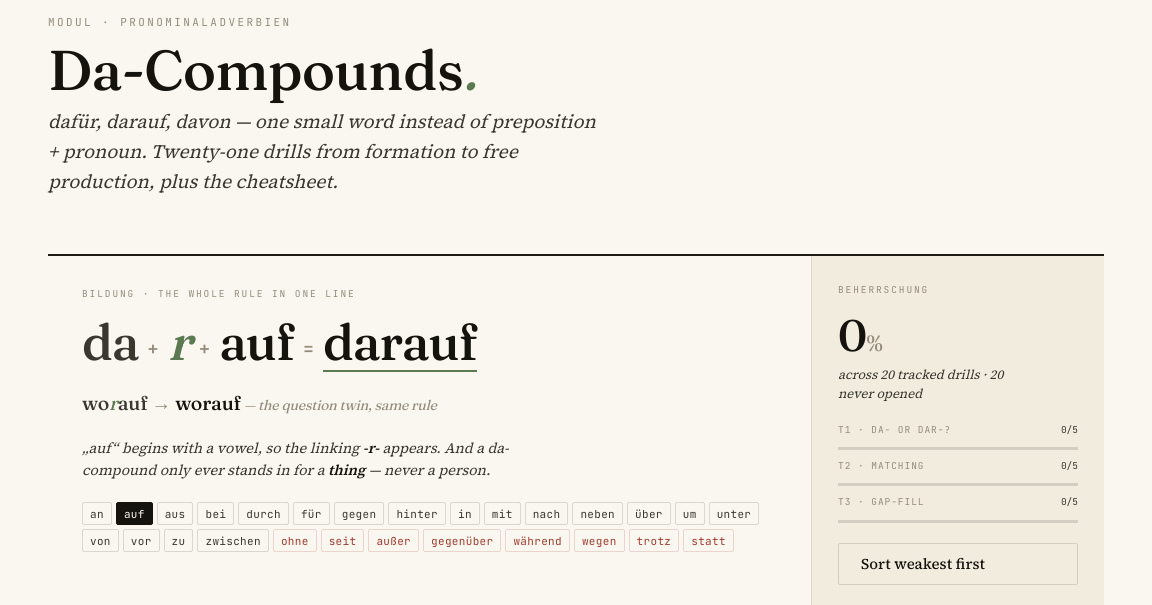
Test case: DaCompoundsHome › the masthead "sort weakest first" button also switches the sort mode
expect the element with class "dac-bar" showing "T1 · da- or dar-? 0/5" is shown: met, box [838,422,1078,450]
Click the button "Sort weakest first": (958, 564) [838,542,1078,584]
(page scrolled)
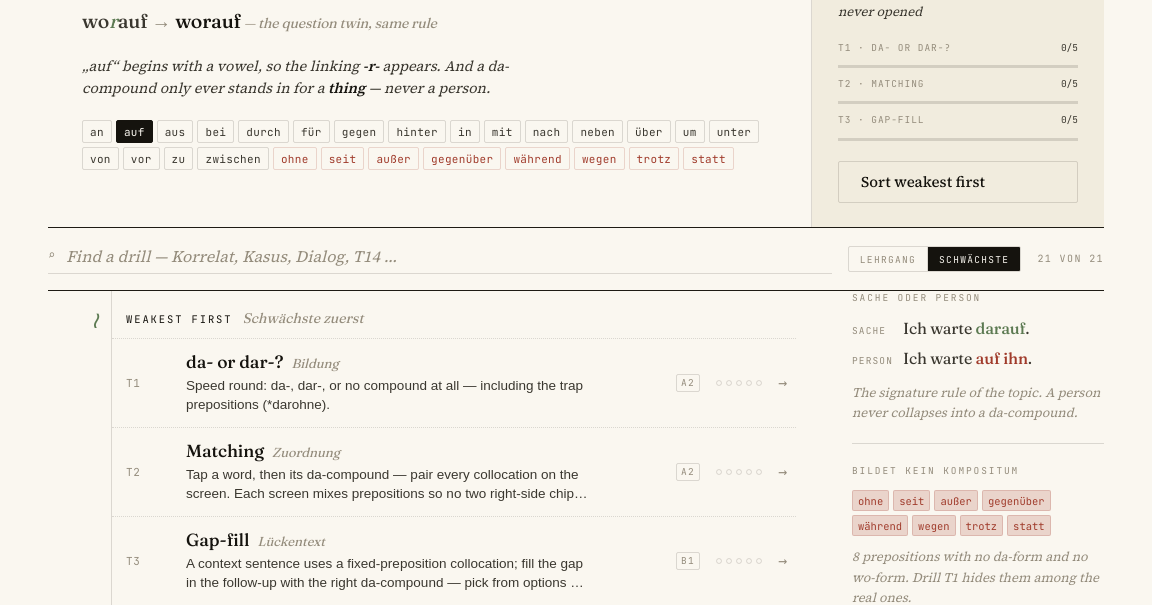
expect the text with class "dac-phase-t" reads "Weakest first": met, box [126,312,232,326]
